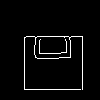D: (25, 25, 71, 62)
